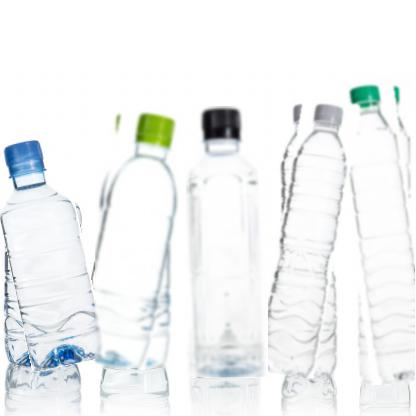plastic-bottles: (87, 108, 183, 370), (1, 123, 97, 371), (342, 79, 416, 386), (269, 99, 350, 379), (187, 107, 268, 379)
